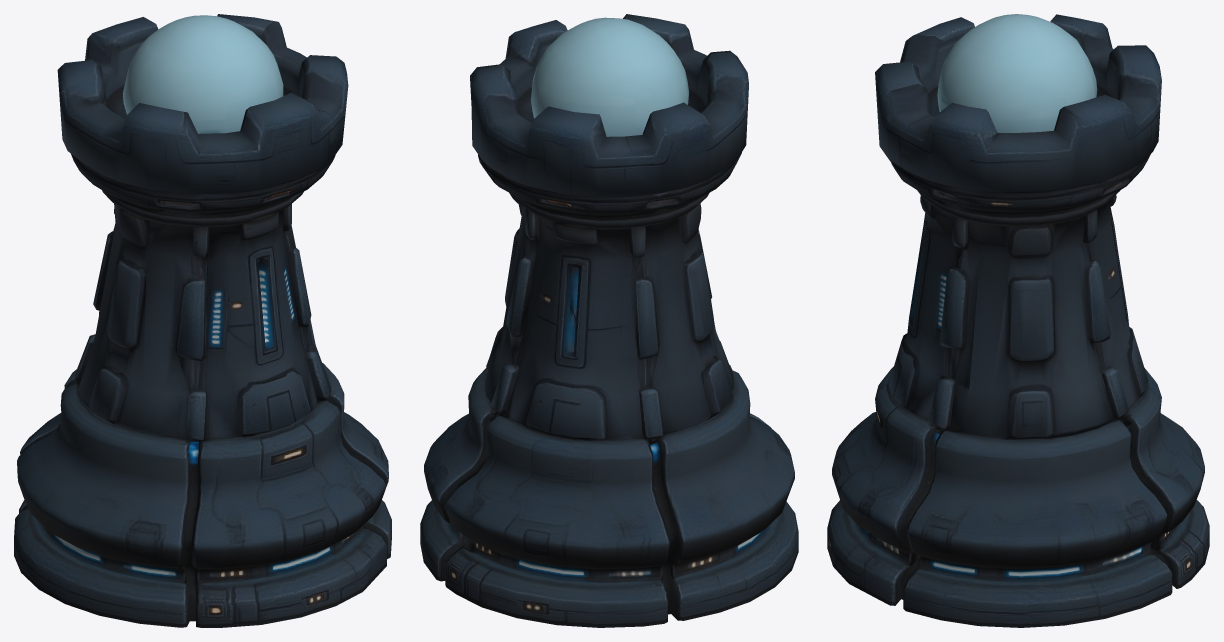
The model's file is futuristic+tower+3d+model.glb.
3 views of the same model, side by side, from view 1: azimuth 30°, elevation 25°; view 2: azimuth 150°, elevation 25°; view 3: azimuth 270°, elevation 25° (orthographic).
Visible parts, largest first — view 1: tripo_node_81556793-3f2d-4686-814b-c2d52b51ee31; view 2: tripo_node_81556793-3f2d-4686-814b-c2d52b51ee31; view 3: tripo_node_81556793-3f2d-4686-814b-c2d52b51ee31.
Boxes of the visible parts, x1,y1,x2,y2 form: tripo_node_81556793-3f2d-4686-814b-c2d52b51ee31: [14, 14, 391, 627]; tripo_node_81556793-3f2d-4686-814b-c2d52b51ee31: [420, 14, 798, 627]; tripo_node_81556793-3f2d-4686-814b-c2d52b51ee31: [827, 14, 1209, 627].
Size of the model in its own units: 0.6582 by 0.998 by 0.6582.
Materials: 1 (1 with a texture image).
